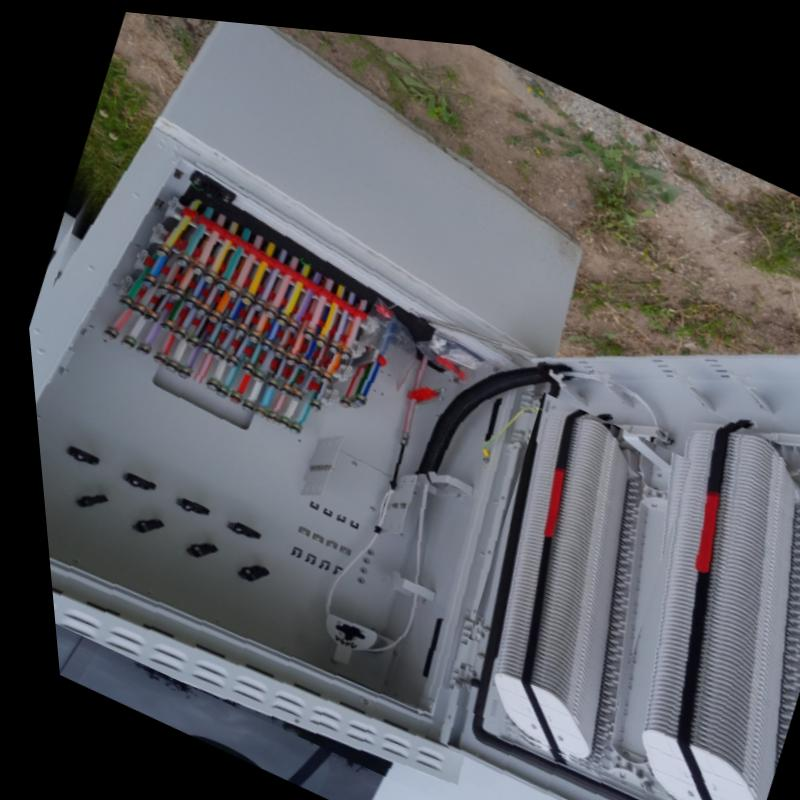NT-Gehause: (24, 15, 800, 800)
Spleiskassetten: (631, 409, 797, 800), (475, 389, 629, 757)
